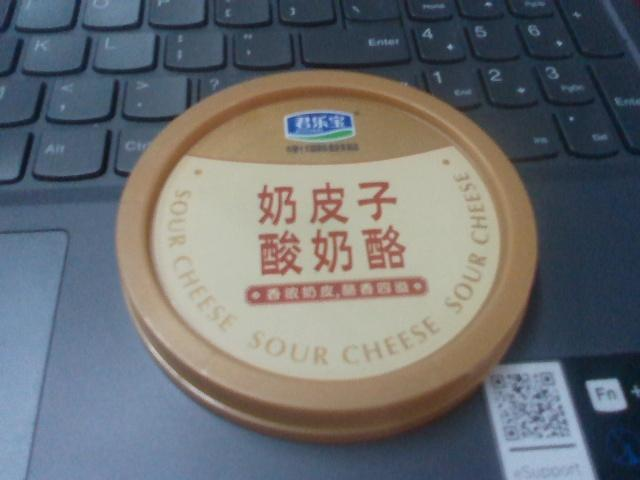keyboard: (1, 2, 640, 182)
lid: (110, 57, 550, 445)
